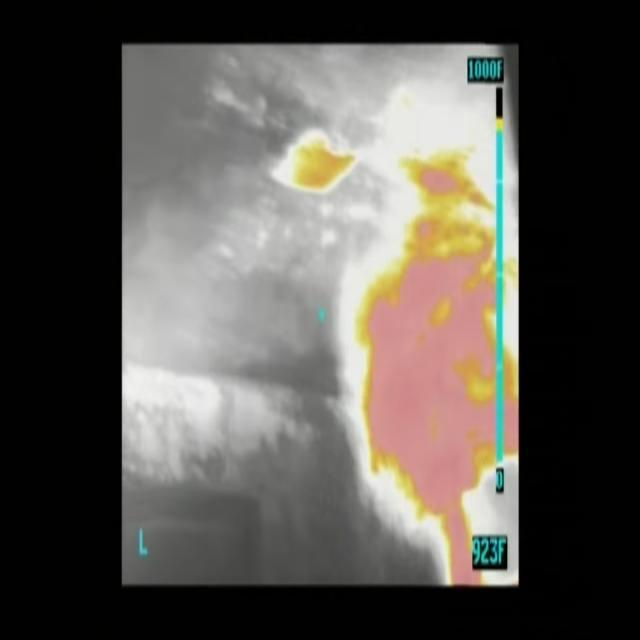fire: (353, 109, 519, 590)
